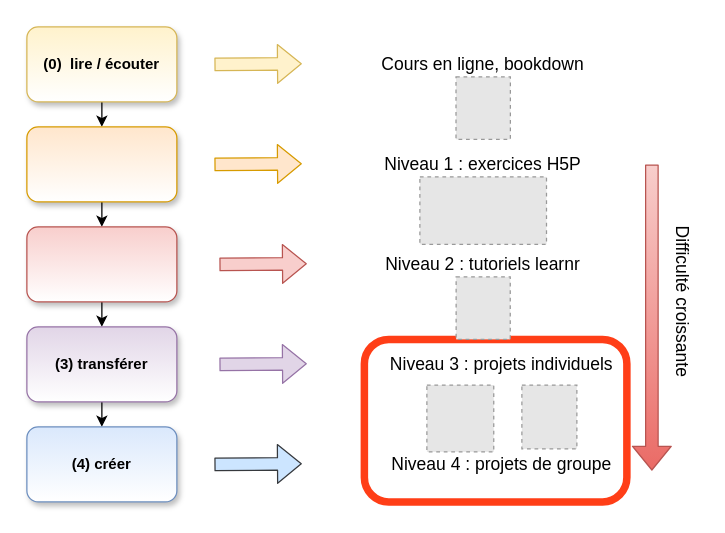
This 725x533 diagram has some shape labels left out. Grey dashed boxes stand in for pictures. Here are the shapes that lost their labels. From the top down, the centre of each, then its label:
point (102, 166): (1) faire
point (102, 266): (2) appliquer
